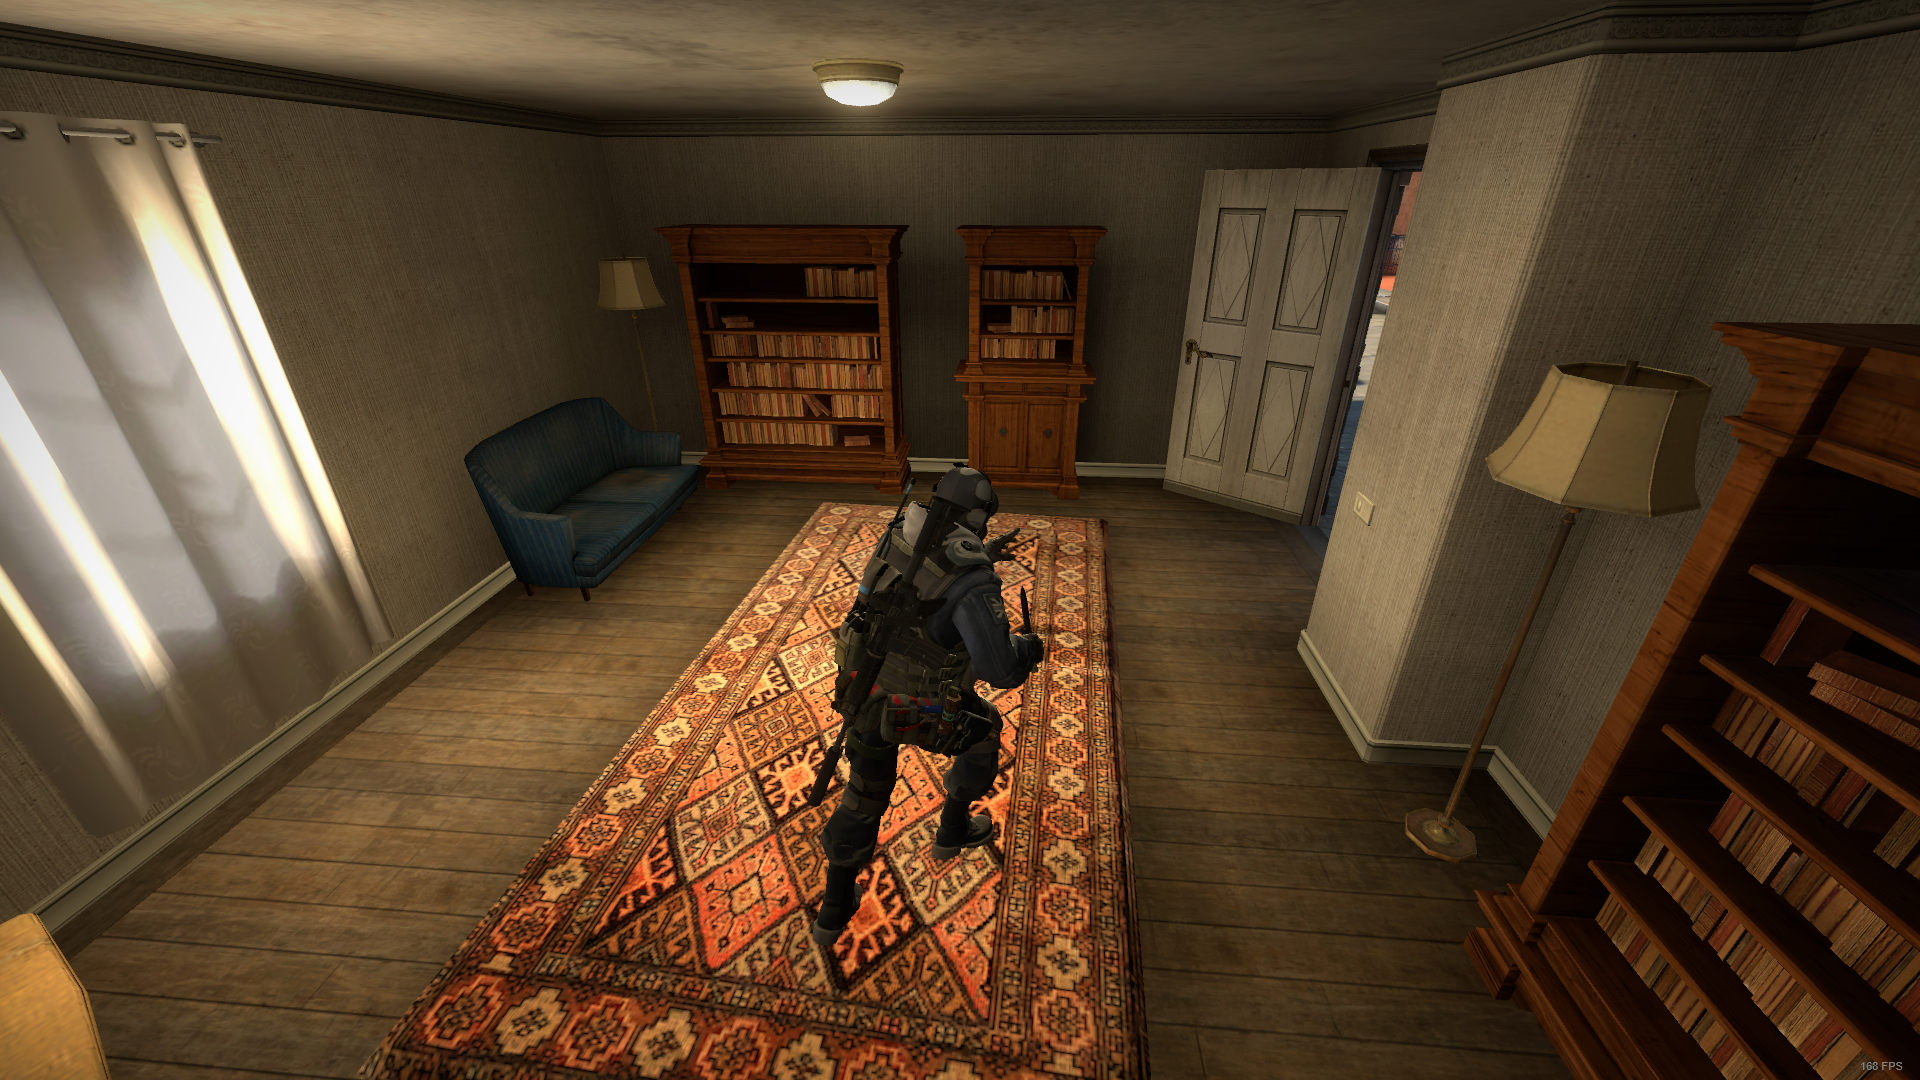ct: (811, 464, 1050, 942)
